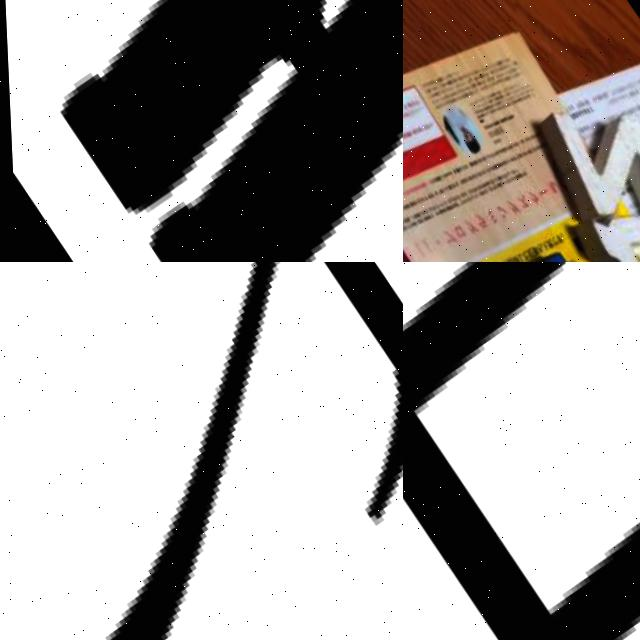7: (0, 262, 403, 640)
H: (403, 262, 640, 640)
Q: (560, 182, 640, 262)
R: (0, 0, 403, 262)
Z: (515, 71, 640, 262)
